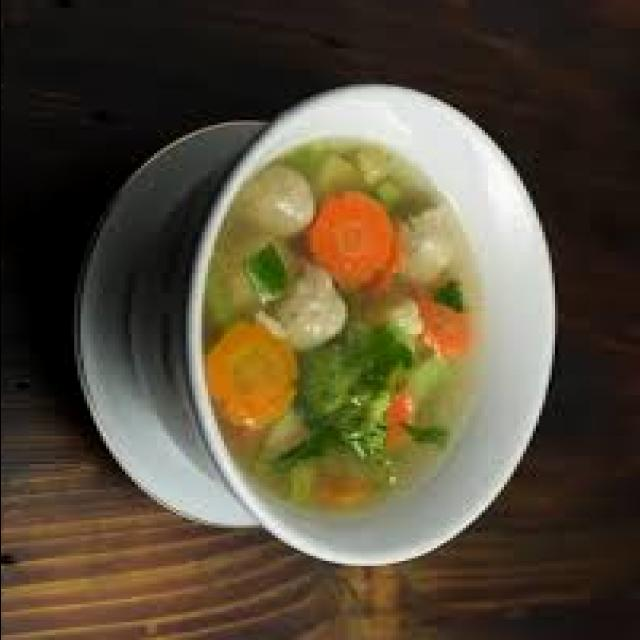sop: (201, 122, 487, 518)
